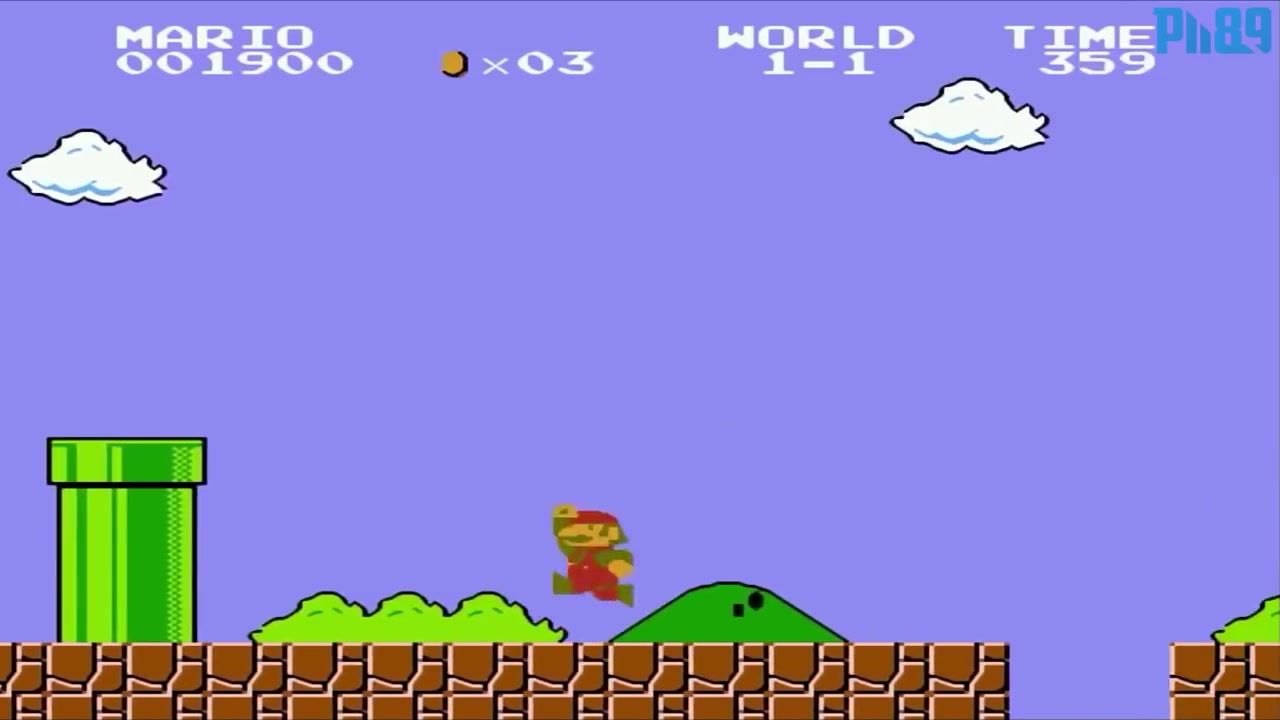mario: (540, 495, 641, 609)
